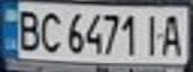1: (118, 10, 142, 56)
4: (81, 10, 106, 55)
6: (63, 9, 84, 55)
7: (103, 10, 121, 56)
A: (157, 10, 187, 57)
B: (12, 6, 42, 53)
C: (36, 7, 63, 54)
I: (139, 10, 166, 57)
